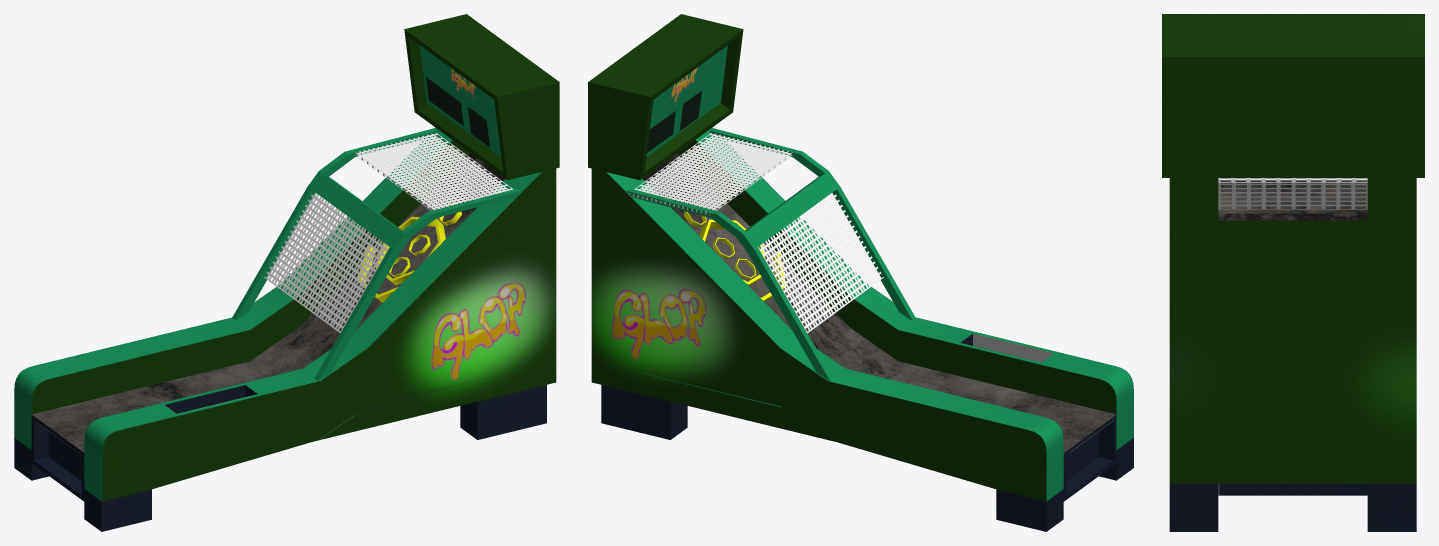
Rendered from low_poly_skeeball_machine.glb.
3 renders of one model, left to right at view 1: azimuth 30°, elevation 25°; view 2: azimuth 150°, elevation 25°; view 3: azimuth 270°, elevation 25°, orthographic. The views are drawn at different scales.
Parts seen in each view (by area): view 1: Box001; view 2: Box001; view 3: Box001.
Part boxes in pixels (x1,y1,x2,y2): Box001: (14, 14, 559, 531); Box001: (588, 14, 1133, 531); Box001: (1162, 14, 1424, 531).
Size of the model in its own units: 49.32 by 35.29 by 17.45.
1 material, 1 textured.
